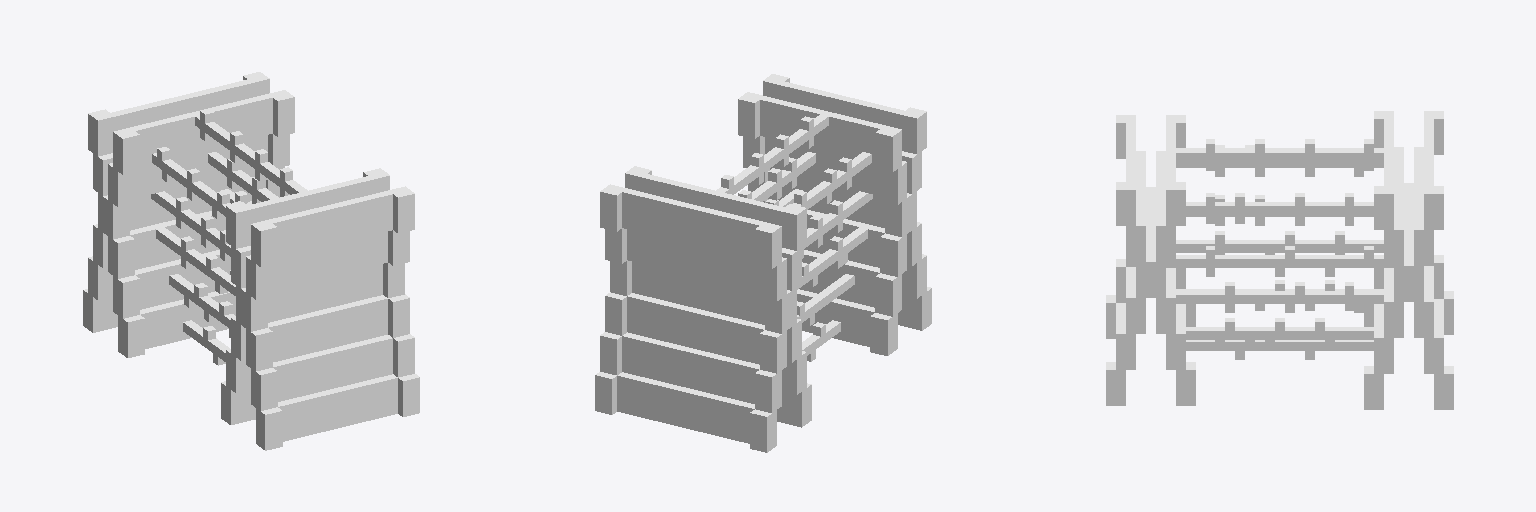
Rendered from obj_cerca.obj.
3 renders of one model, left to right at view 1: azimuth 30°, elevation 25°; view 2: azimuth 150°, elevation 25°; view 3: azimuth 270°, elevation 25°, orthographic.
Bounding box in the file's own units: 20 × 25 × 35.